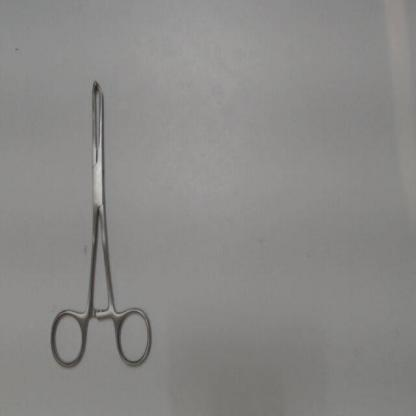Allis Tissue Forceps: (45, 66, 164, 375)
